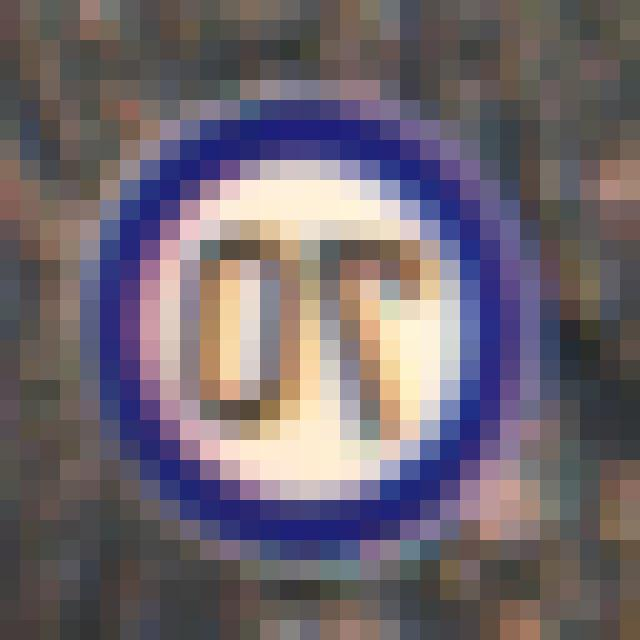SPEED LIMIT 70: (83, 109, 513, 554)
